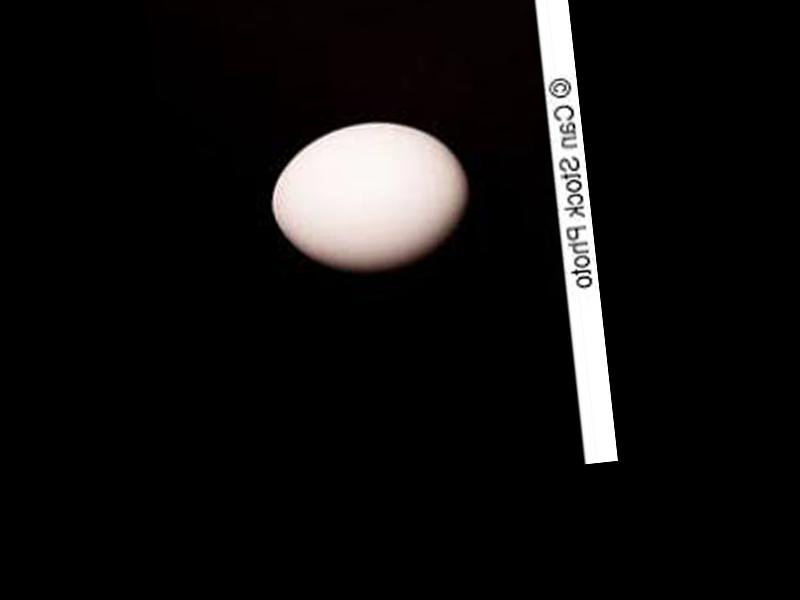Eggs: (264, 113, 479, 280)
